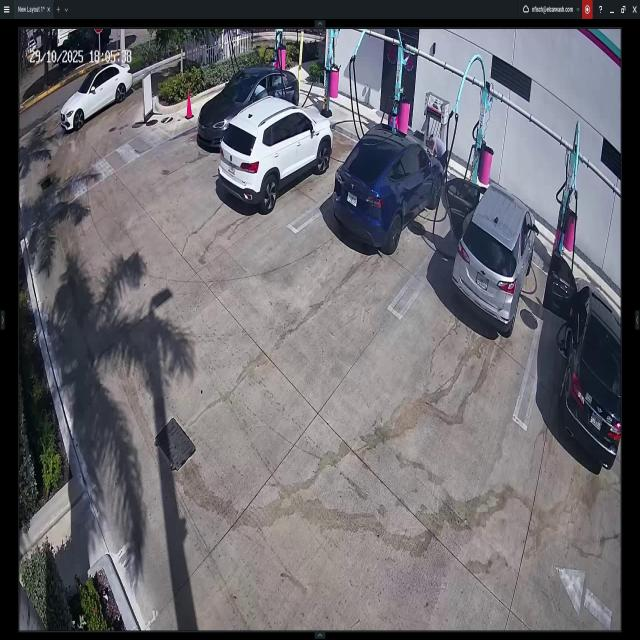Car: (544, 253, 622, 466), (442, 182, 538, 331), (331, 126, 443, 252), (218, 101, 332, 210), (198, 66, 298, 141), (59, 59, 133, 134)
